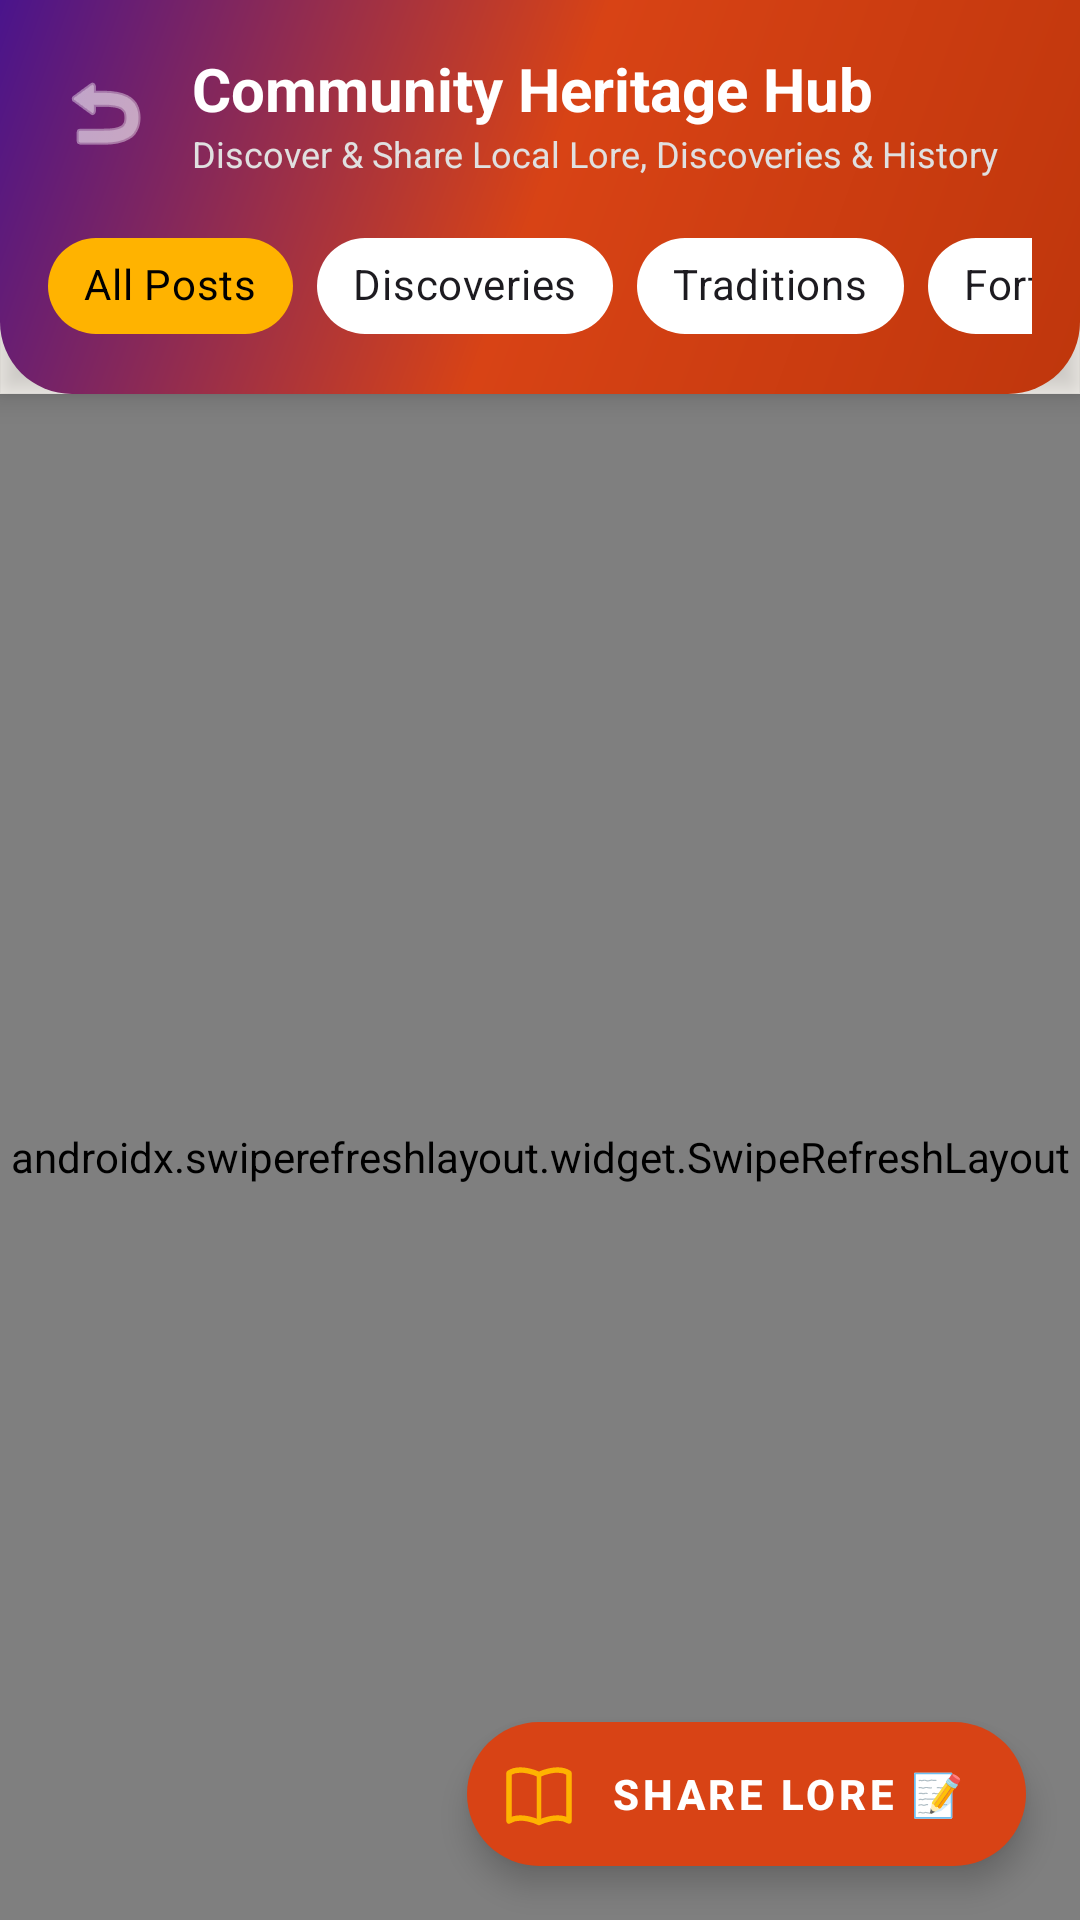

Screen size 1080 x 1920. Icon name, then its center in pixels as [x,y]:
Back: [103,113]
